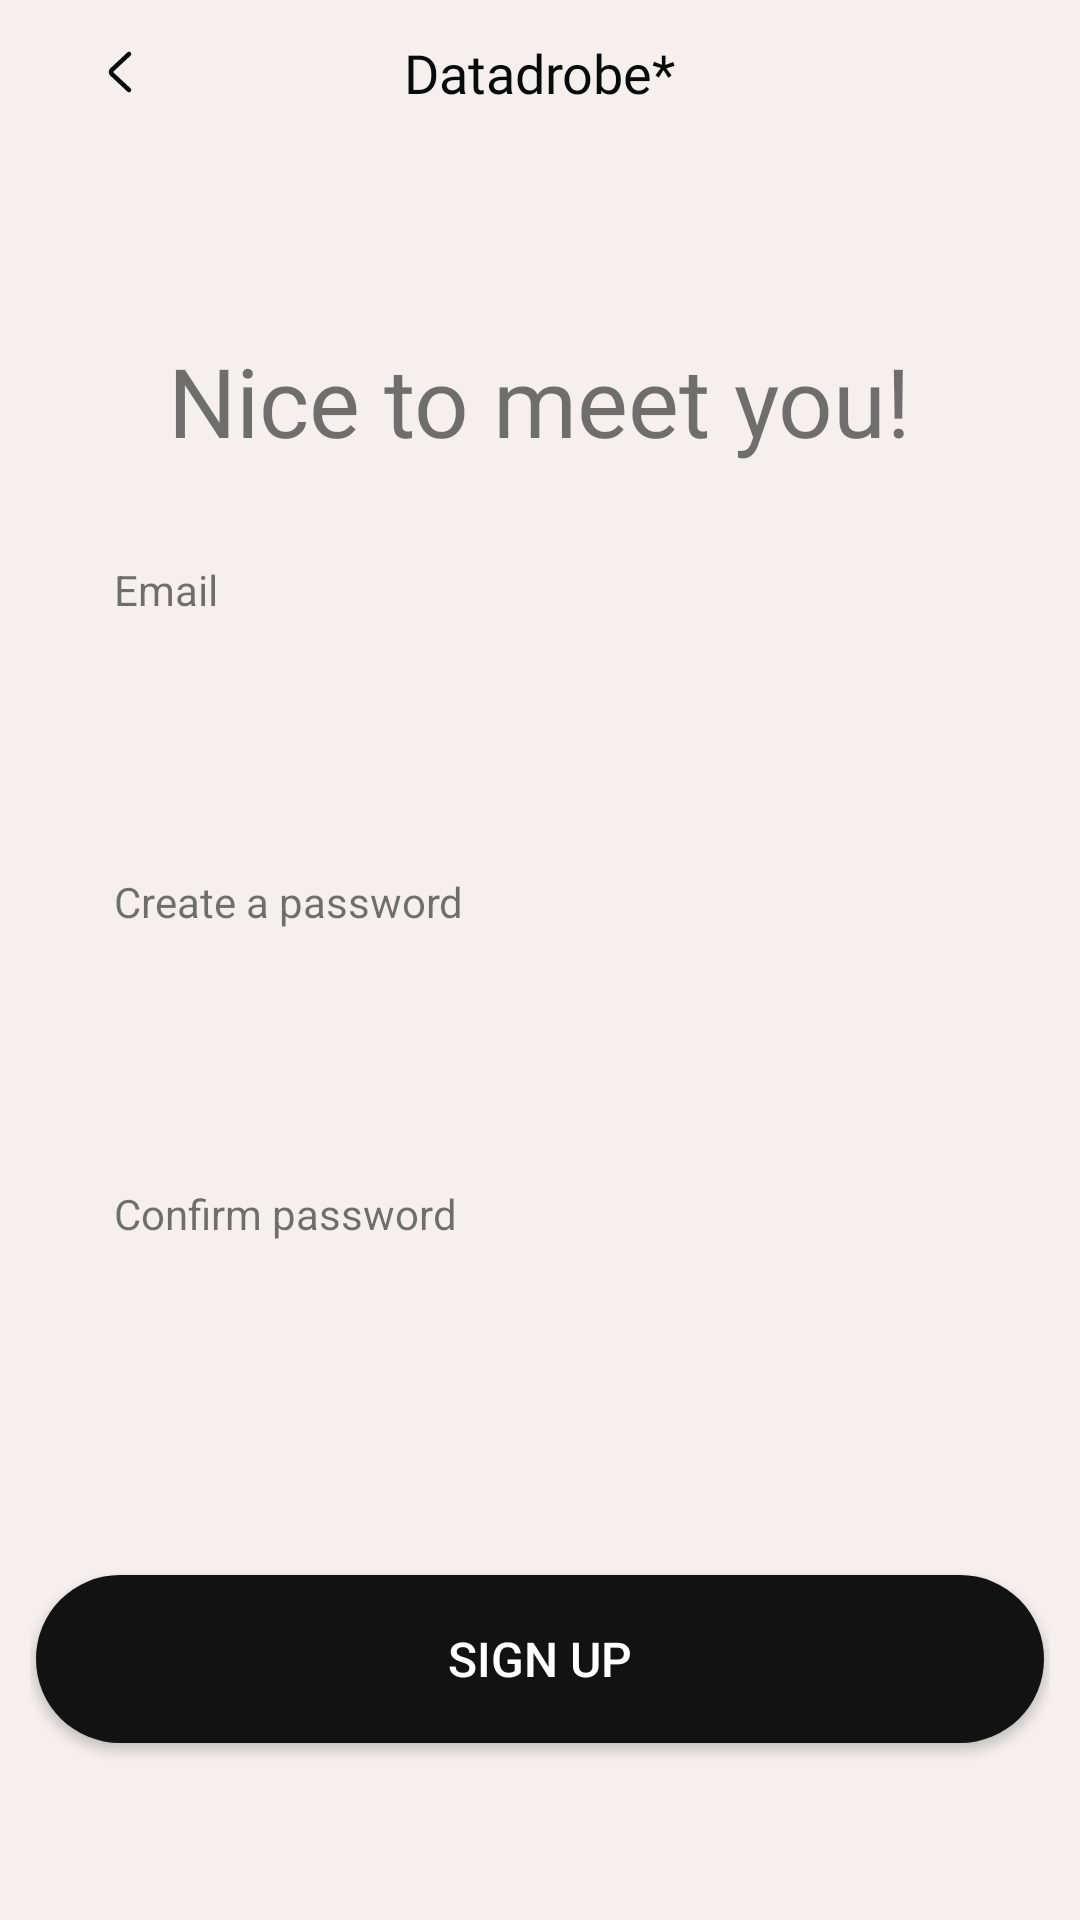

Locate icon controls on the screen. Image size 1080 × 1920, boxes as (x1, y1, x2, y2).
left actionable: (108, 51, 132, 93)
